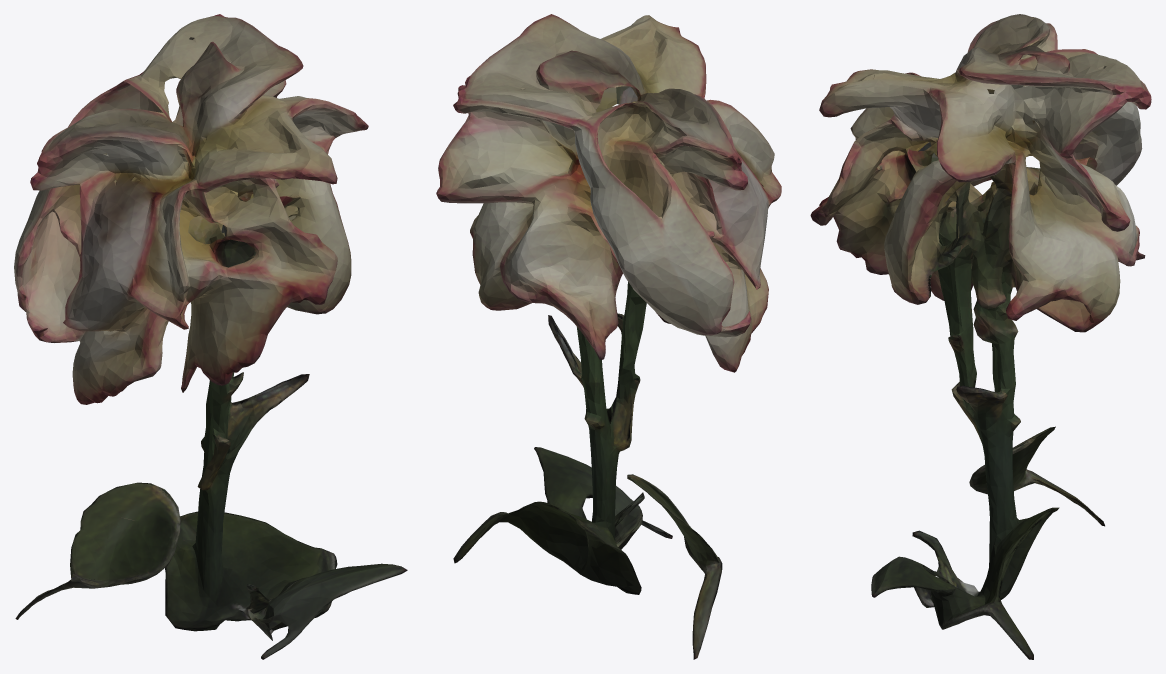
The picture shows the model from 3 angles, left to right: view 1: azimuth 30°, elevation 25°; view 2: azimuth 150°, elevation 25°; view 3: azimuth 270°, elevation 25°; orthographic projection. The views are drawn at different scales.
Visible parts, largest first — view 1: world; view 2: world; view 3: world.
Boxes of the visible parts, <box> form: world: <box>14,14,407,659</box>; world: <box>436,14,781,659</box>; world: <box>810,14,1151,659</box>.
Bounding box in the file's own units: 0.5578 × 0.9789 × 0.5369.
Materials: 1 (1 with a texture image).
